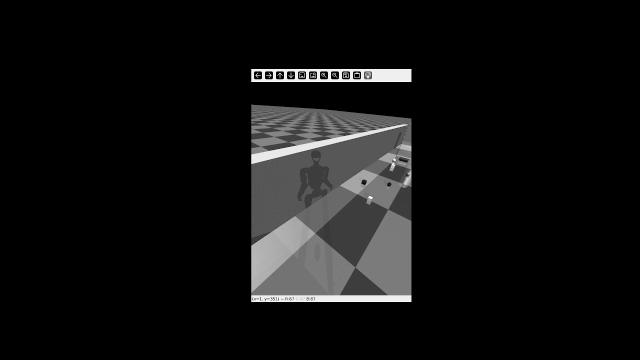cilindro: (397, 154, 410, 163)
cuadrado: (364, 194, 375, 206), (360, 178, 370, 187), (391, 162, 397, 171)
esfera: (387, 181, 393, 186), (392, 158, 396, 162), (407, 172, 411, 176)
